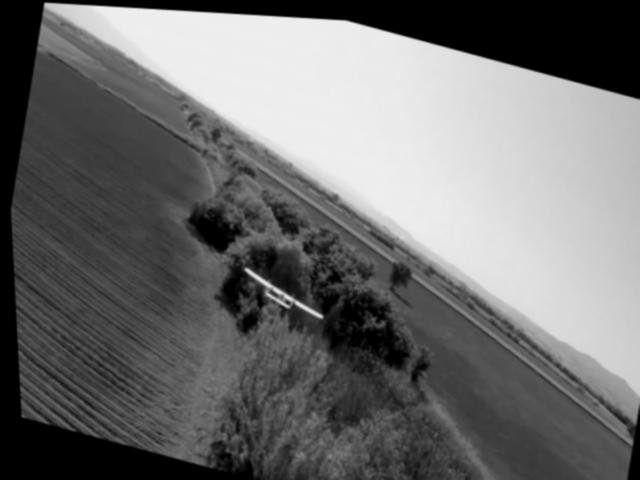hedef: (231, 255, 333, 329)
